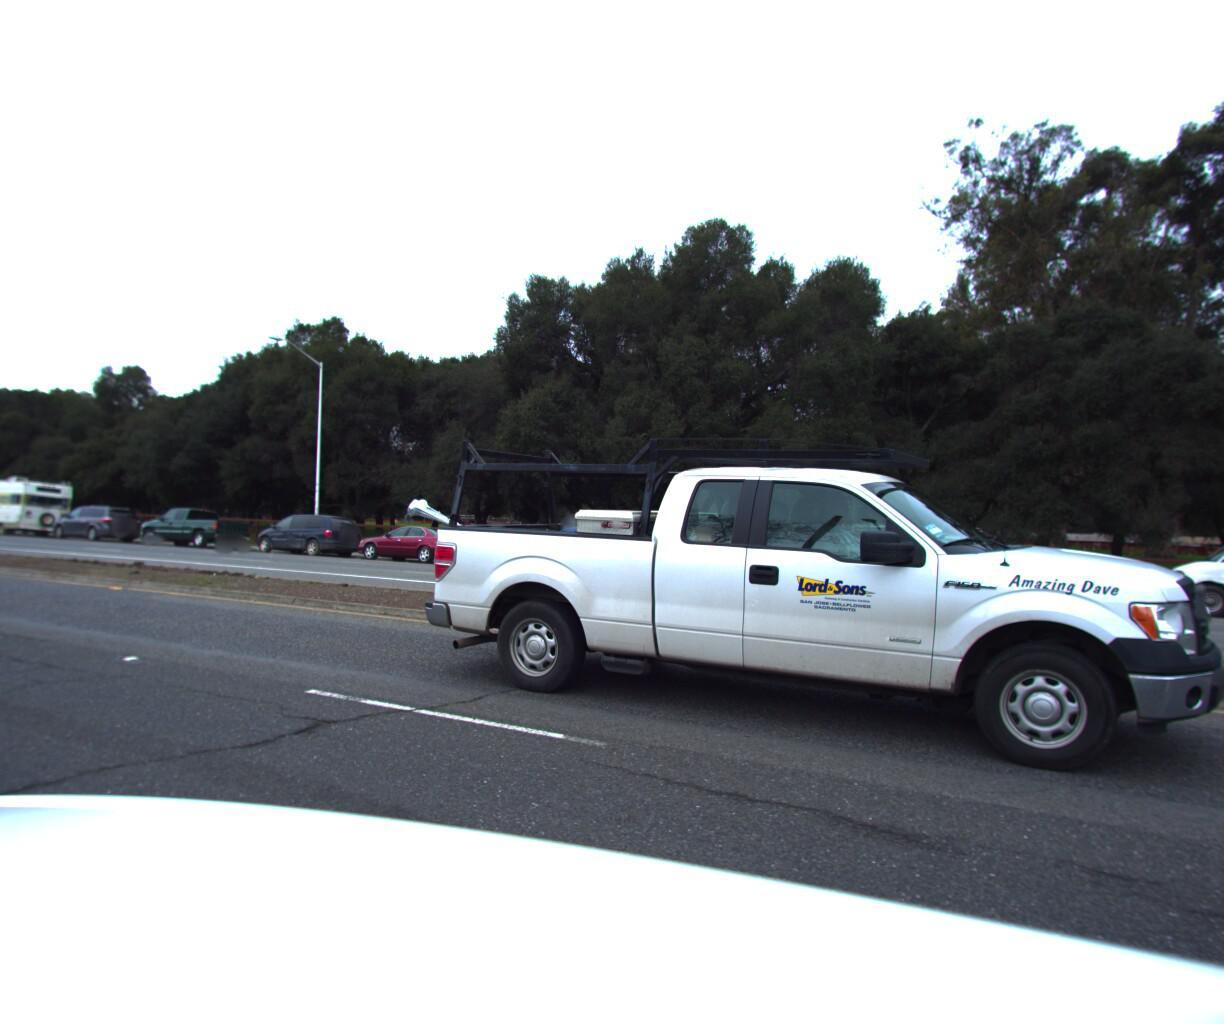car: (397, 419, 1224, 806), (850, 531, 1051, 599), (1152, 510, 1224, 635), (460, 519, 607, 570), (344, 516, 480, 563), (240, 505, 370, 555), (128, 500, 256, 546), (41, 497, 147, 540)
other_vehicle: (0, 470, 78, 532)
